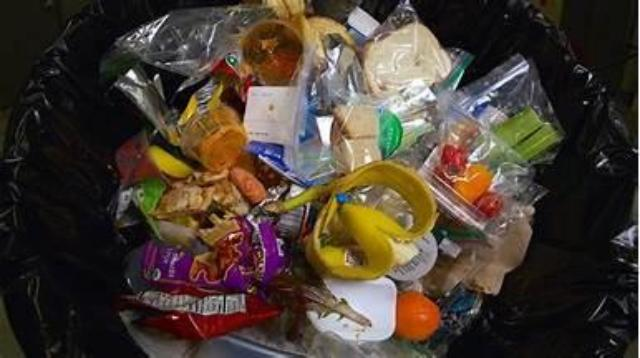Disposable: (308, 276, 396, 341), (388, 233, 437, 281), (276, 206, 305, 239)
Garbage: (101, 0, 564, 357)
Plastic_Bag: (420, 117, 546, 235), (285, 19, 367, 181), (454, 54, 563, 130)
Plastic_Container: (181, 105, 246, 172)
Plastic_wraper: (101, 6, 272, 140), (119, 216, 290, 339), (245, 141, 311, 188), (178, 77, 224, 127)
